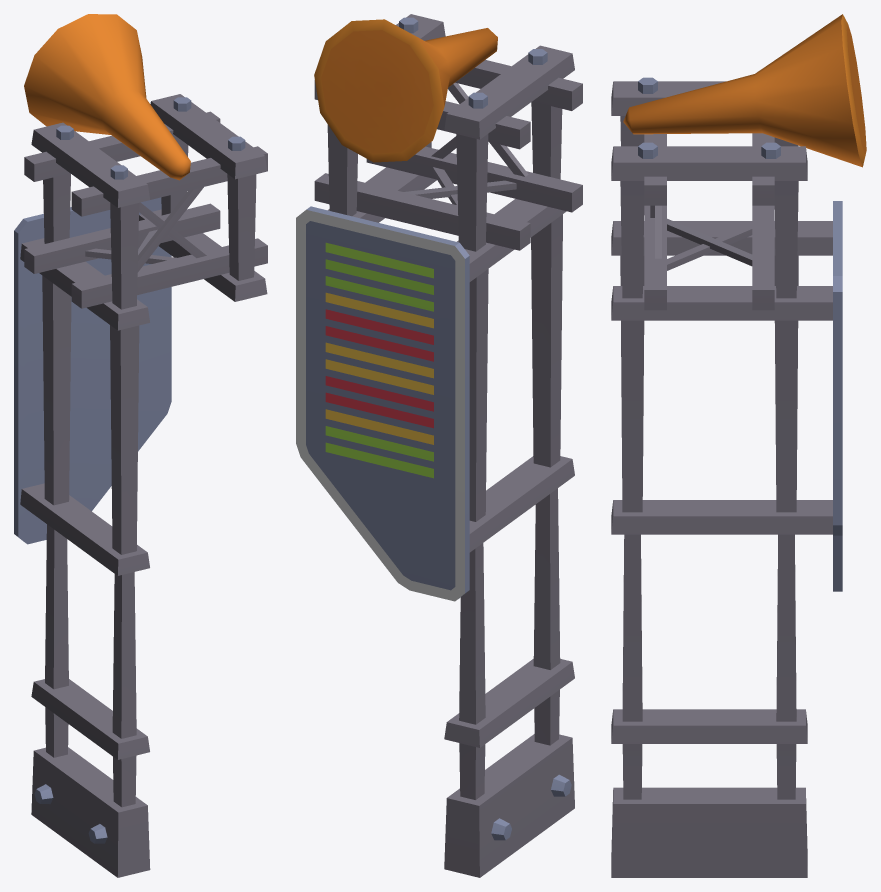
File: Sign_Support_2A.fbx
3 renders of one model, left to right at view 1: azimuth 30°, elevation 25°; view 2: azimuth 150°, elevation 25°; view 3: azimuth 270°, elevation 25°, orthographic. The views are drawn at different scales.
Parts seen in each view (by area): view 1: Sign_Support_2A; view 2: Sign_Support_2A; view 3: Sign_Support_2A.
Part boxes in pixels (bbox=[...]): Sign_Support_2A: bbox=[14, 14, 267, 877]; Sign_Support_2A: bbox=[296, 14, 582, 877]; Sign_Support_2A: bbox=[611, 14, 866, 877].
Bounding box in the file's own units: 318 × 1259 × 332.
